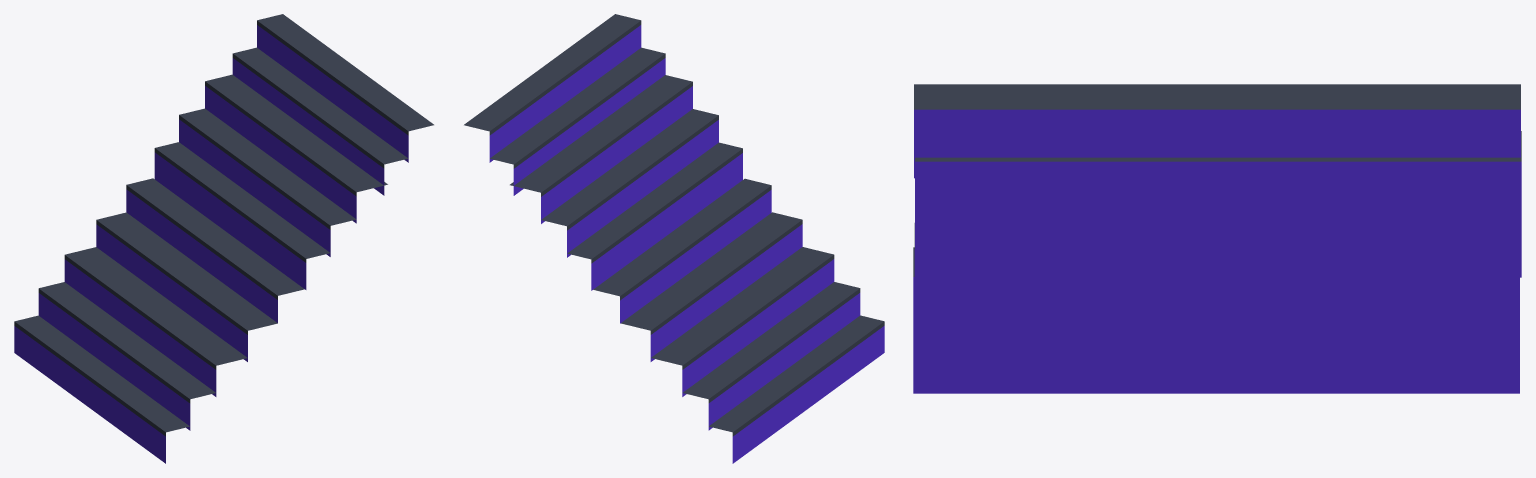
Rendered from Building_Stairs_Purple.fbx.
3 renders of one model, left to right at view 1: azimuth 30°, elevation 25°; view 2: azimuth 150°, elevation 25°; view 3: azimuth 270°, elevation 25°, orthographic. The views are drawn at different scales.
Visible parts, largest first — view 1: CubeHome.004; view 2: CubeHome.004; view 3: CubeHome.004.
Boxes of the visible parts, box(x1,y1,x2,y2) form: CubeHome.004: box(14, 14, 433, 463); CubeHome.004: box(464, 14, 884, 463); CubeHome.004: box(913, 84, 1521, 393).
Bounding box in the file's own units: 234 × 228 × 230.
